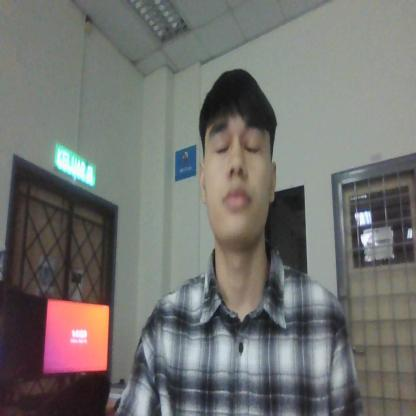Closed-Eyes: (206, 116, 269, 161)
